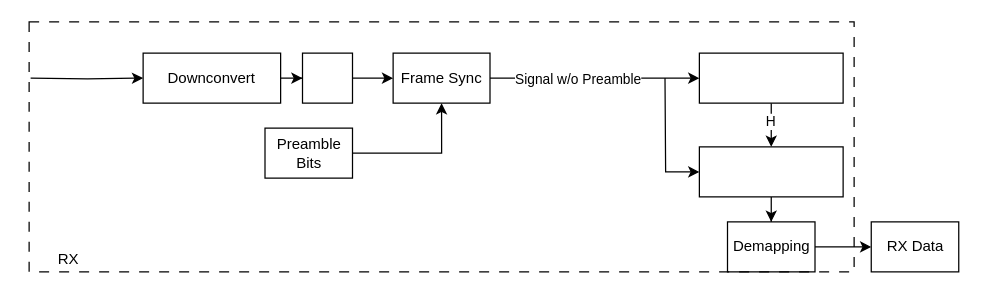
This 981x300 diagram has some shape labels left out. Each missing label, with the box of its shape:
Channel Correction: (698, 146, 843, 197)
Channel Estimation: (698, 52, 843, 103)
LPF: (301, 52, 352, 103)
